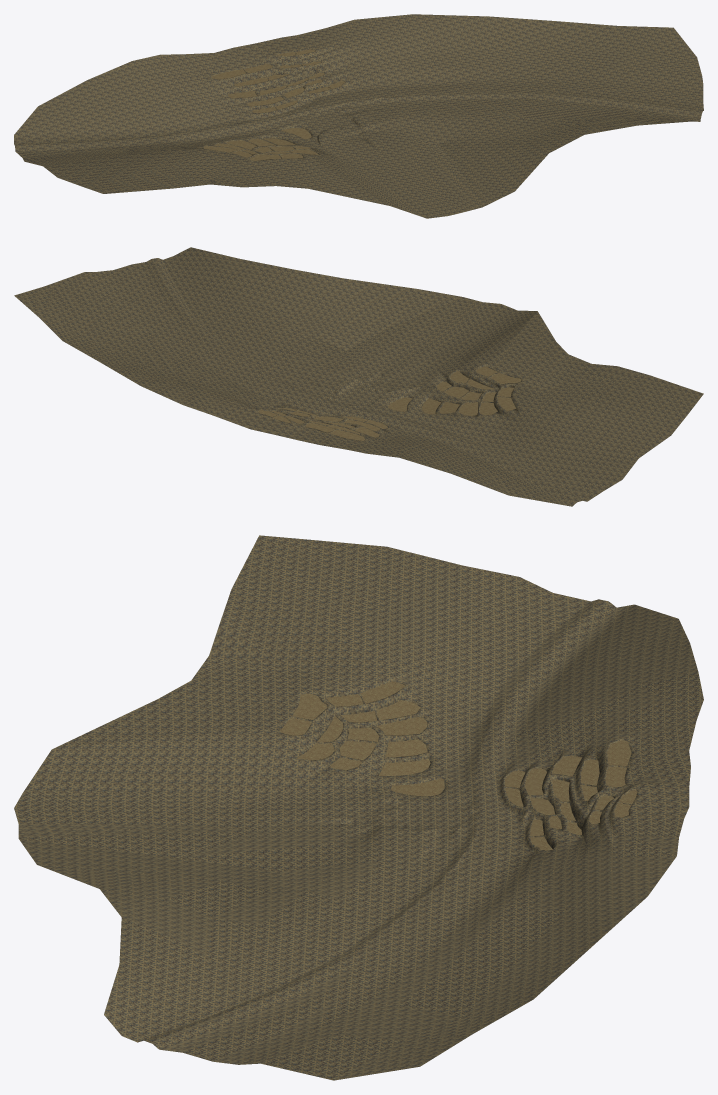
The model's file is Ground.fbx.
The picture shows the model from 3 angles, top to bottom: view 1: azimuth 30°, elevation 25°; view 2: azimuth 150°, elevation 25°; view 3: azimuth 270°, elevation 25°; orthographic projection. The views are drawn at different scales.
Parts seen in each view (by area): view 1: SM_d_114_Ground_02b; view 2: SM_d_114_Ground_02b; view 3: SM_d_114_Ground_02b.
Part boxes in pixels (bbox=[...]): SM_d_114_Ground_02b: bbox=[14, 14, 703, 218]; SM_d_114_Ground_02b: bbox=[14, 247, 703, 506]; SM_d_114_Ground_02b: bbox=[14, 535, 703, 1080].
Size of the model in its own units: 75013 by 4333 by 43432.
